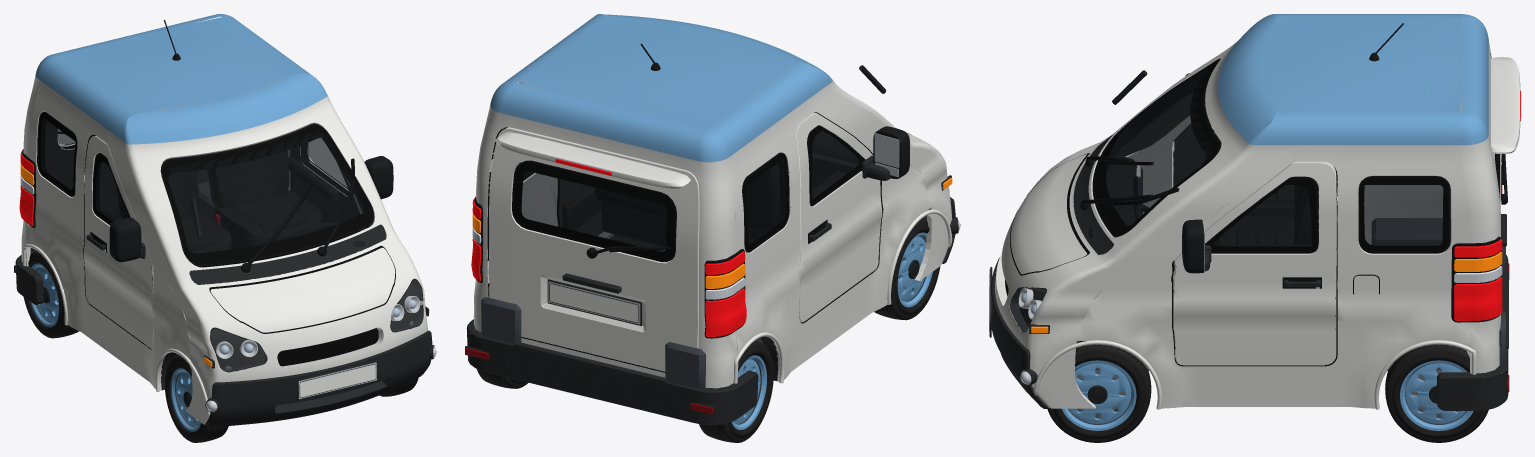
The model's file is electric-micro-car.glb.
3 views of the same model, side by side, from view 1: azimuth 30°, elevation 25°; view 2: azimuth 150°, elevation 25°; view 3: azimuth 270°, elevation 25° (orthographic). The views are drawn at different scales.
Parts seen in each view (by area): view 1: Electric_Micro_Car, Door_R, Door_L, Tailgate, Wheel_Front_R, Wheel_Rear_R; view 2: Electric_Micro_Car, Tailgate, Door_R, Wheel_Front_R, Wheel_Rear_R, Door_L; view 3: Electric_Micro_Car, Door_L, Wheel_Front_L, Wheel_Rear_L, Tailgate, Door_R.
Part boxes in pixels (x1,y1,x2,y2): Electric_Micro_Car: (14,14,436,427); Door_R: (83,136,153,348); Door_L: (288,138,393,233); Tailgate: (45,121,208,215); Wheel_Front_R: (164,355,228,442); Wheel_Rear_R: (23,251,78,338); Electric_Micro_Car: (465,14,960,425); Tailgate: (488,127,699,371); Door_R: (796,112,909,322); Wheel_Front_R: (874,218,940,320); Wheel_Rear_R: (699,340,773,442); Door_L: (557,169,603,235); Electric_Micro_Car: (989,14,1509,410); Door_L: (1173,161,1337,365); Wheel_Front_L: (1047,344,1151,442); Wheel_Rear_L: (1385,344,1488,442); Tailgate: (1490,55,1520,246); Door_R: (1173,73,1221,186).
Size of the model in its own units: 1.85 by 1.92 by 2.57.
Materials: 51 (9 with a texture image).
